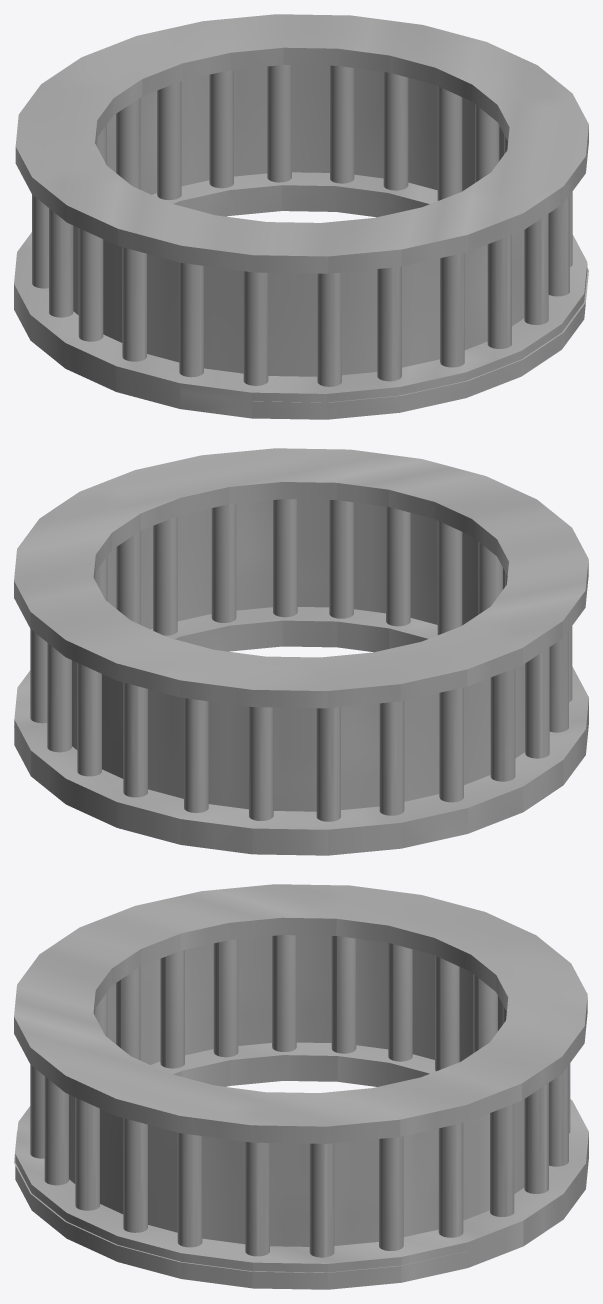
3 renders of one model, top to bottom at view 1: azimuth 30°, elevation 25°; view 2: azimuth 150°, elevation 25°; view 3: azimuth 270°, elevation 25°, orthographic.
Parts seen in each view (by area): view 1: 1; view 2: 1; view 3: 1.
Part boxes in pixels (box(x1,y1,x2,y2)): 1: box(14, 14, 588, 419); 1: box(14, 448, 588, 855); 1: box(14, 884, 588, 1289).
Size of the model in its own units: 335 by 105 by 335.
Materials: 1 (1 with a texture image).
